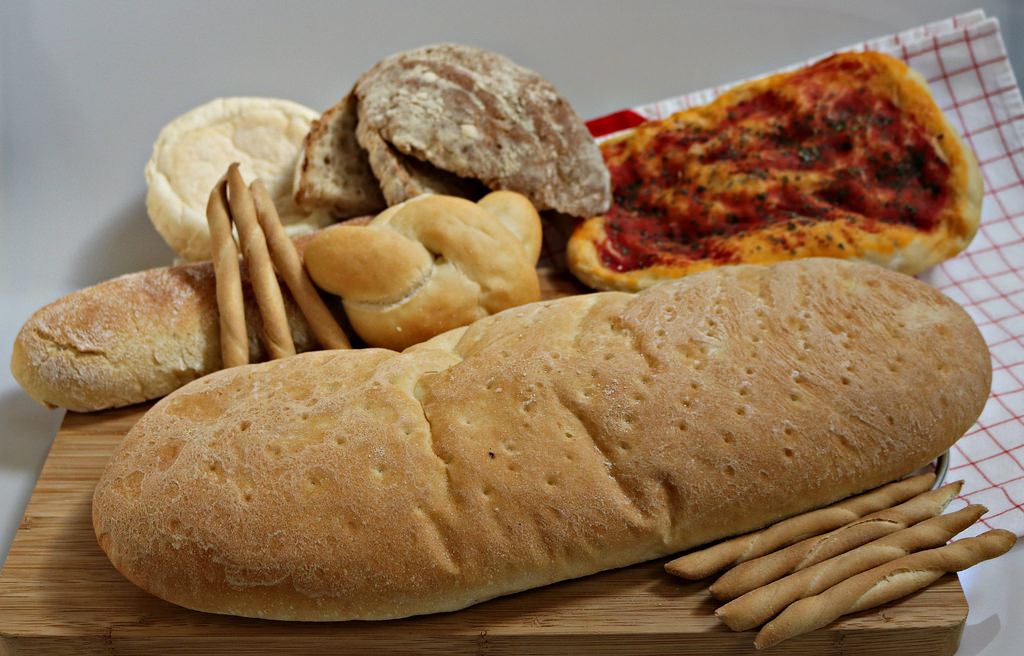slice of bread: (314, 210, 540, 315)
